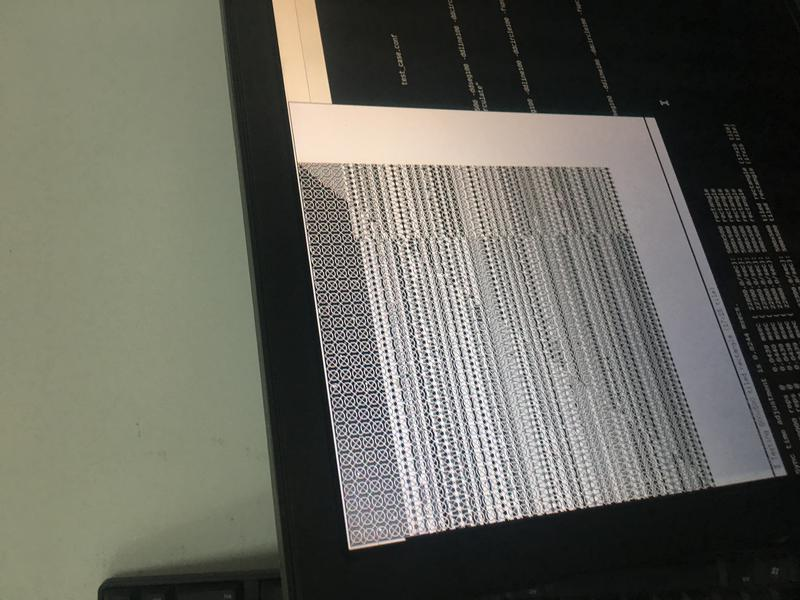xrandr_pass: (284, 85, 792, 552)
